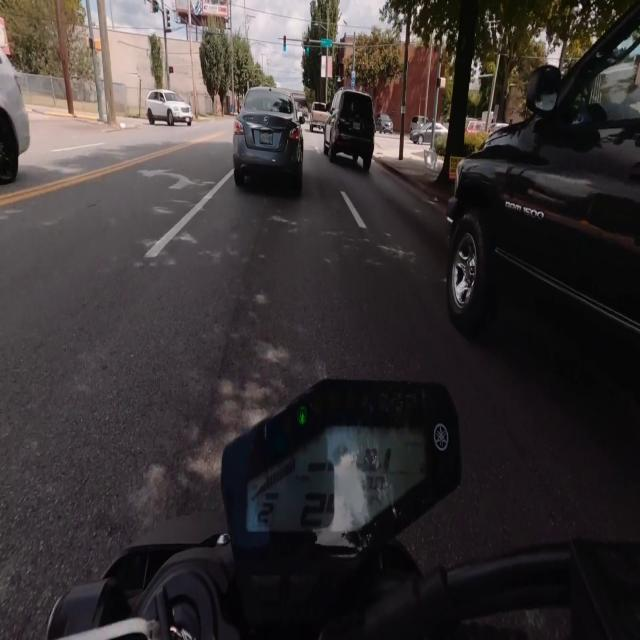car: (447, 3, 639, 334), (233, 88, 304, 192), (324, 89, 374, 171), (0, 51, 29, 184), (146, 90, 193, 126), (410, 123, 432, 144), (376, 113, 394, 133), (410, 116, 430, 133)
motorcycle: (47, 380, 639, 639)
